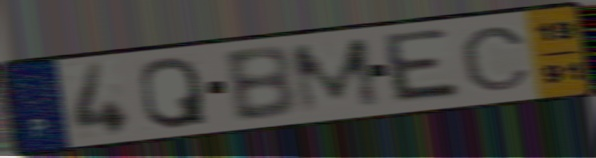4: (70, 59, 134, 140)
B: (219, 43, 301, 125)
C: (457, 24, 535, 93)
E: (382, 26, 466, 105)
M: (286, 34, 385, 117)
Q: (137, 53, 211, 131)
